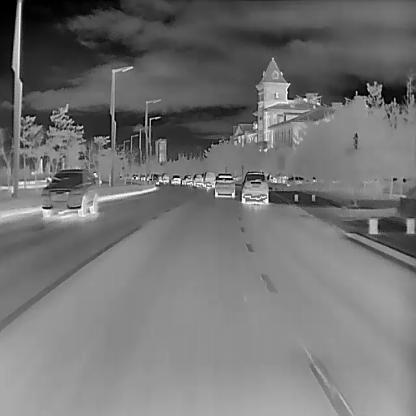car: (40, 167, 98, 216), (240, 171, 268, 203), (213, 172, 235, 197), (202, 171, 215, 188), (285, 174, 305, 184), (192, 172, 202, 186), (181, 174, 191, 184), (171, 174, 180, 184), (161, 171, 168, 182)
